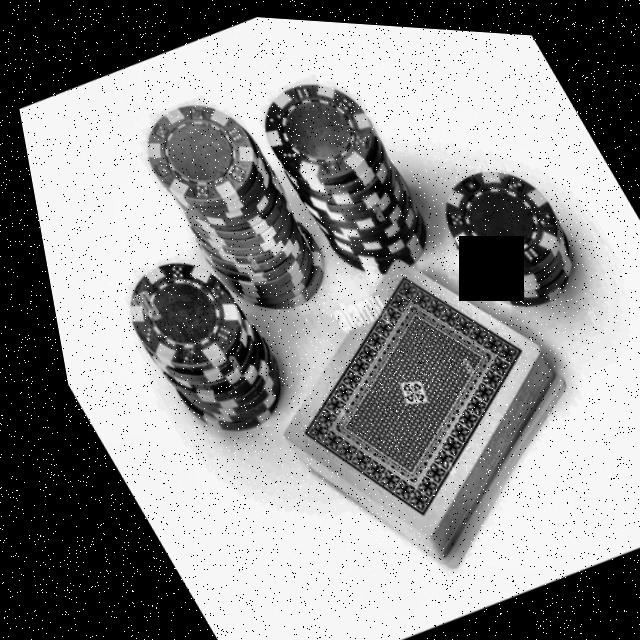Chip: (105, 75, 348, 338), (225, 48, 452, 301), (77, 231, 305, 461), (398, 132, 605, 327)
